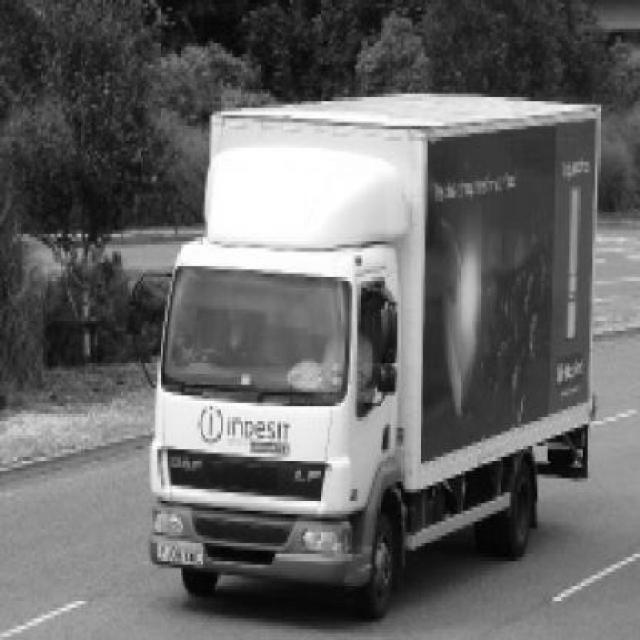Box Truck: (126, 93, 602, 623)
